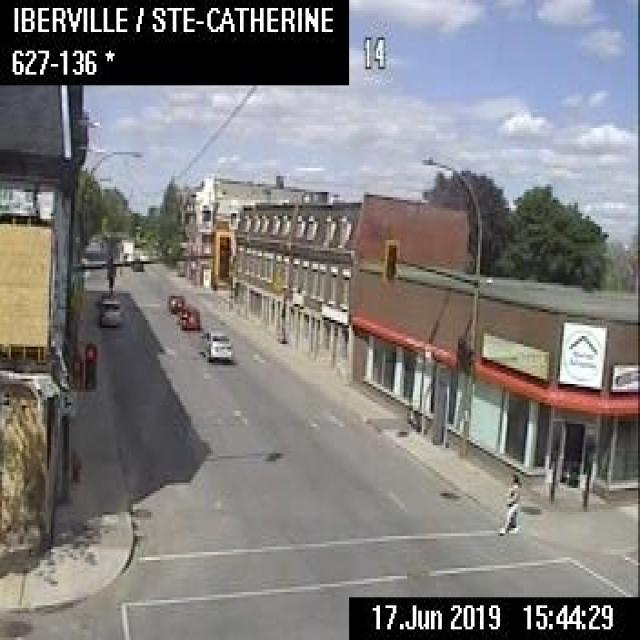pedestrian: (496, 471, 522, 536)
vehicle: (199, 327, 232, 358), (98, 296, 122, 326), (177, 302, 199, 328), (118, 236, 133, 261), (167, 292, 184, 310), (130, 256, 142, 268)
